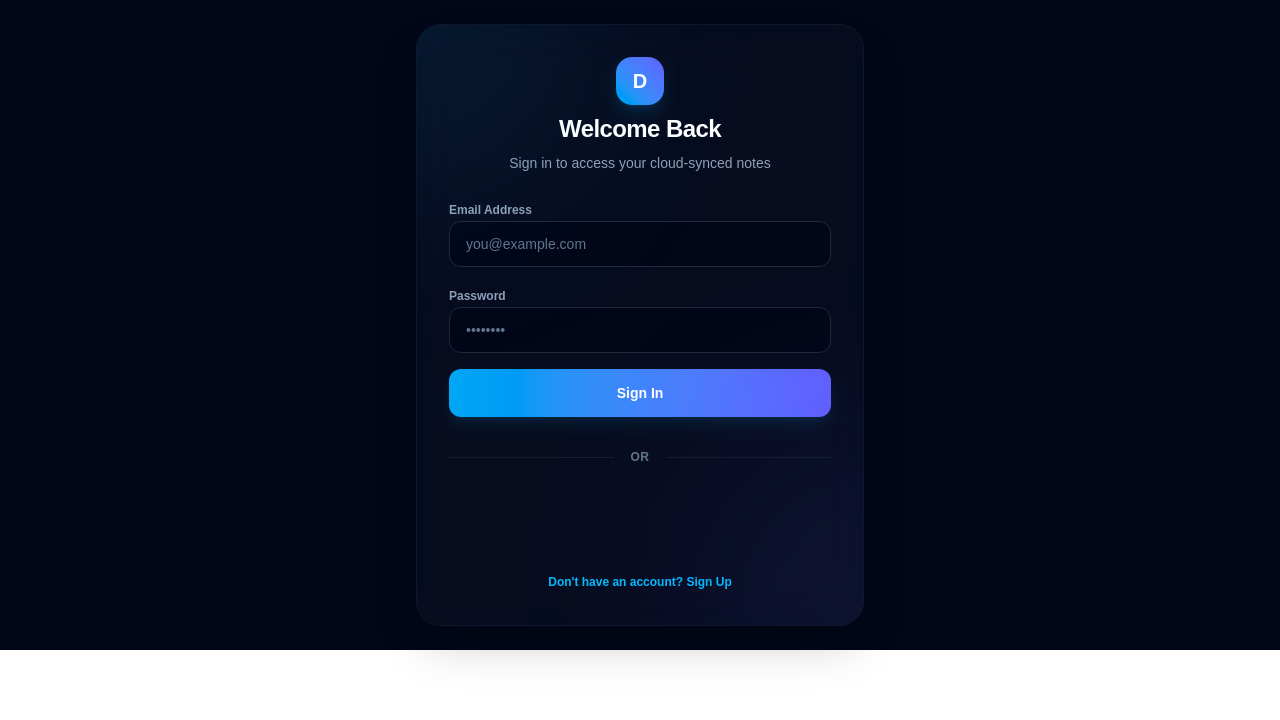
Test: AuthView › shows the error message when login fails
Type "a@b.com" into the field with placeholder "you@example.com" at (640, 244), box [449,221,831,267]
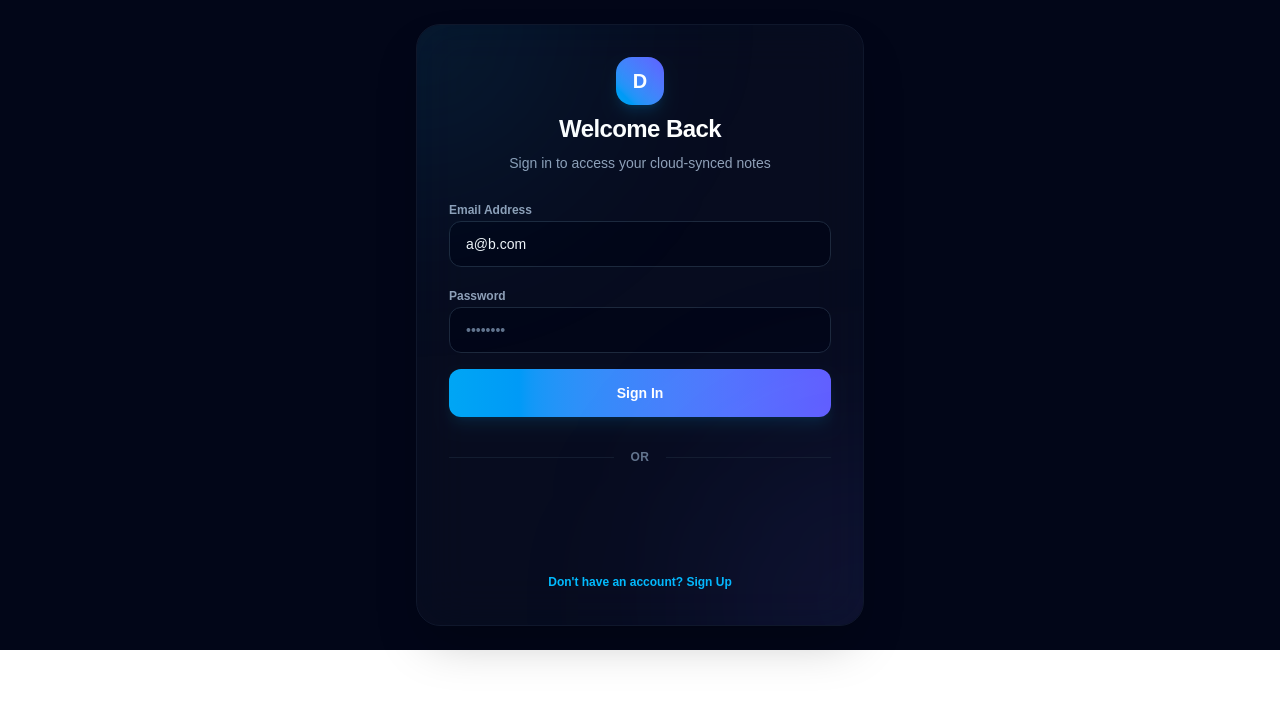
Type "wrongpass" into the password field with placeholder "••••••••" at (640, 330), box [449,307,831,353]
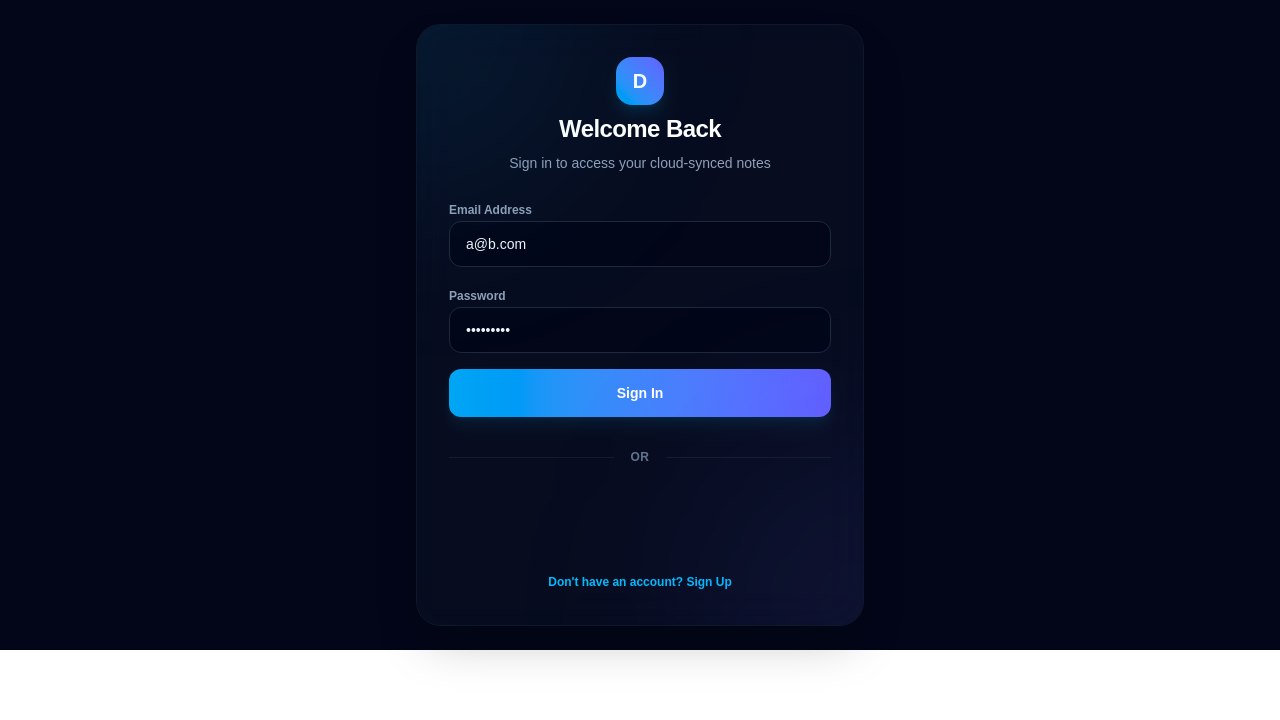
Click the button "Sign In" at (640, 393), box [449,369,831,417]
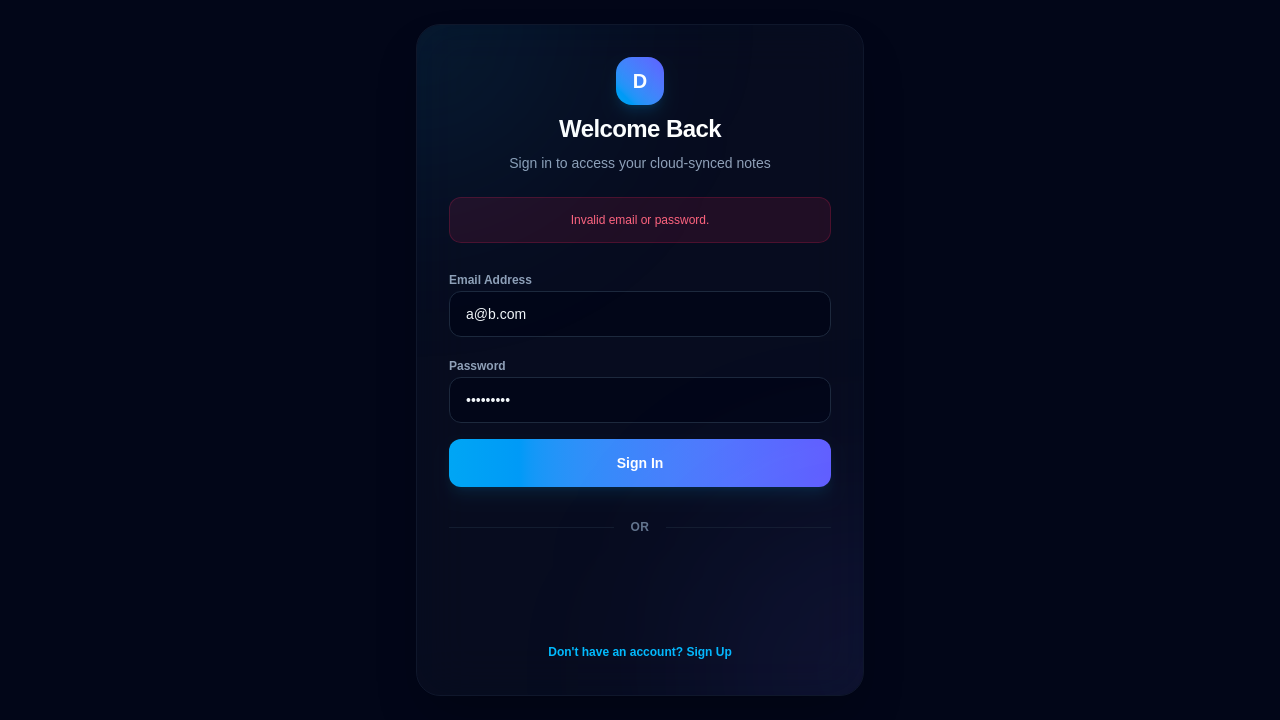
Check: the text "Invalid email or password." is shown, box [449,197,831,243]
